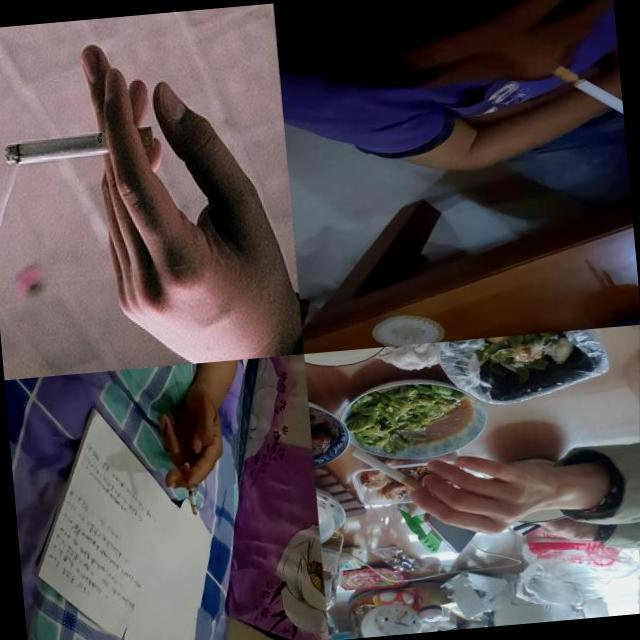cigarette: (2, 125, 154, 166), (351, 441, 435, 504), (550, 60, 624, 121), (182, 461, 198, 516)
